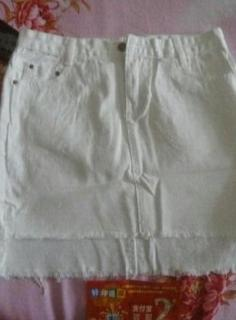skirt: (0, 27, 236, 278)
